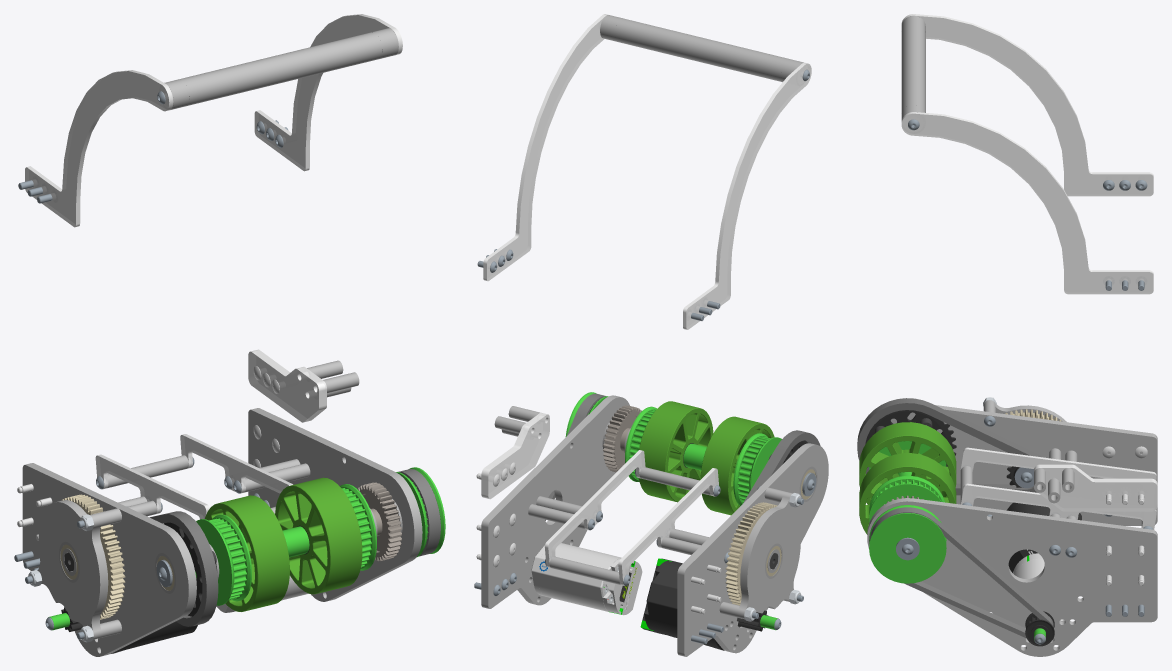
3 renders of one model, left to right at view 1: azimuth 30°, elevation 25°; view 2: azimuth 150°, elevation 25°; view 3: azimuth 270°, elevation 25°, orthographic. The views are drawn at different scales.
Parts seen in each view (by area): view 1: Manipulator Pivot Plate (×2), 3" Compliant Wheel (35A, 1" Wide, 1/2" Hex Bore) (×2), Manipulator Algae Finger Plate (×2), 7in Deadaxle Tube, Manipulator Pivot Gear Cover, 36T HTD Pulley (×3), Manipulator Coral Rail (×2), Part 41, 56L #25 Chain, 66t Pocketed Aluminum Spur Gear (20 DP, 1/2" Hex Bore), 40t Pocketed Aluminum Spur Gear (20 DP, 1/2" Hex Bore), 75T HTD Belt (+4 smaller); view 2: Manipulator Pivot Plate (×2), Manipulator Algae Finger Plate (×2), 3" Compliant Wheel (35A, 1" Wide, 1/2" Hex Bore) (×2), 7in Deadaxle Tube, Manipulator Pivot Gear Cover, id243, Manipulator Coral Rail (×2), Part 41, 36T HTD Pulley (×2), Kraken X60 Brushless Motor, 2.5 in. Round Spacer (×2), 66t Pocketed Aluminum Spur Gear (20 DP, 1/2" Hex Bore) (+3 smaller); view 3: Manipulator Pivot Plate (×2), Manipulator Algae Finger Plate (×2), 36T HTD Pulley (×2), 3" Compliant Wheel (35A, 1" Wide, 1/2" Hex Bore) (×2), Manipulator Coral Rail (×2), Part 41, 75T HTD Belt, 56L #25 Chain, 7in Deadaxle Tube, 36t Aluminum Sprocket (#25, SplineXL Bore), Kraken X60 Brushless Motor, 12t Aluminum Pulley (HTD 5mm, 9mm Wide, 8mm SplineXS Bore) (+2 smaller).
Boxes of the visible parts, bbox=[...] form: Manipulator Pivot Plate (×2): bbox=[22, 408, 422, 656]; 3" Compliant Wheel (35A, 1" Wide, 1/2" Hex Bore) (×2): bbox=[205, 477, 362, 611]; Manipulator Algae Finger Plate (×2): bbox=[25, 14, 402, 227]; 7in Deadaxle Tube: bbox=[164, 28, 398, 109]; Manipulator Pivot Gear Cover: bbox=[37, 500, 108, 639]; 36T HTD Pulley (×3): bbox=[196, 467, 445, 605]; Manipulator Coral Rail (×2): bbox=[95, 434, 292, 519]; Part 41: bbox=[248, 349, 326, 422]; 56L #25 Chain: bbox=[149, 511, 218, 626]; 66t Pocketed Aluminum Spur Gear (20 DP, 1/2" Hex Bore): bbox=[61, 494, 125, 619]; 40t Pocketed Aluminum Spur Gear (20 DP, 1/2" Hex Bore): bbox=[357, 482, 401, 561]; 75T HTD Belt: bbox=[398, 469, 440, 556]; Manipulator Pivot Plate (×2): bbox=[481, 395, 828, 656]; Manipulator Algae Finger Plate (×2): bbox=[483, 14, 811, 329]; 3" Compliant Wheel (35A, 1" Wide, 1/2" Hex Bore) (×2): bbox=[638, 401, 774, 515]; 7in Deadaxle Tube: bbox=[600, 15, 803, 82]; Manipulator Pivot Gear Cover: bbox=[737, 492, 800, 619]; id243: bbox=[531, 543, 642, 615]; Manipulator Coral Rail (×2): bbox=[544, 450, 718, 585]; Part 41: bbox=[481, 412, 549, 499]; 36T HTD Pulley (×2): bbox=[625, 406, 781, 506]; Kraken X60 Brushless Motor: bbox=[640, 558, 740, 650]; 2.5 in. Round Spacer (×2): bbox=[549, 467, 710, 584]; 66t Pocketed Aluminum Spur Gear (20 DP, 1/2" Hex Bore): bbox=[725, 502, 777, 605]; Manipulator Pivot Plate (×2): bbox=[867, 405, 1157, 656]; Manipulator Algae Finger Plate (×2): bbox=[901, 14, 1153, 294]; 36T HTD Pulley (×2): bbox=[869, 475, 946, 583]; 3" Compliant Wheel (35A, 1" Wide, 1/2" Hex Bore) (×2): bbox=[859, 422, 956, 534]; Manipulator Coral Rail (×2): bbox=[960, 447, 1156, 529]; Part 41: bbox=[1034, 464, 1157, 511]; 75T HTD Belt: bbox=[869, 507, 1053, 638]; 56L #25 Chain: bbox=[857, 398, 1041, 495]; 7in Deadaxle Tube: bbox=[901, 15, 925, 120]; 36t Aluminum Sprocket (#25, SplineXL Bore): bbox=[865, 410, 956, 466]; Kraken X60 Brushless Motor: bbox=[1006, 502, 1081, 572]; 12t Aluminum Pulley (HTD 5mm, 9mm Wide, 8mm SplineXS Bore): bbox=[1025, 611, 1054, 646].
Bounding box in the file's own units: 0.2513 × 0.4682 × 0.2345.
